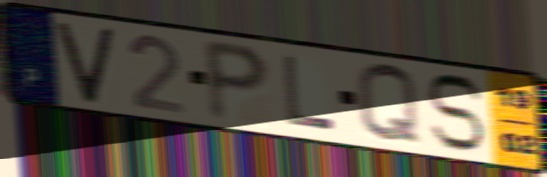2: (124, 32, 190, 117)
L: (280, 53, 338, 134)
P: (201, 36, 274, 125)
Q: (353, 61, 424, 148)
S: (424, 71, 488, 154)
V: (53, 21, 117, 106)
